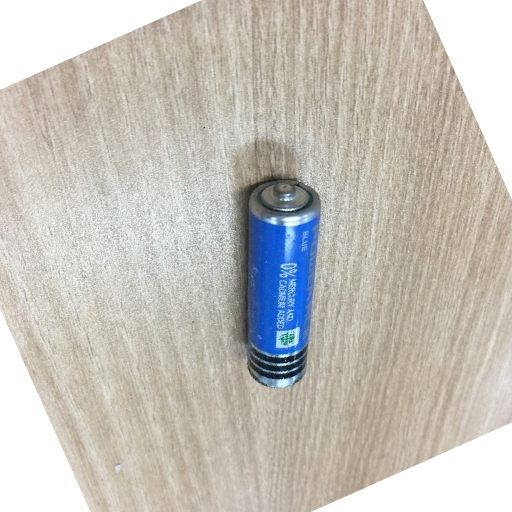Battery_0: (229, 161, 338, 406)
